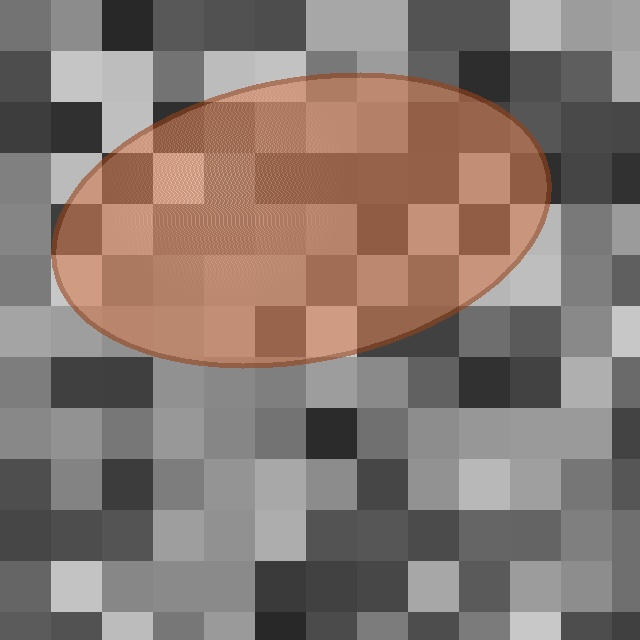lens: (55, 75, 547, 365)
